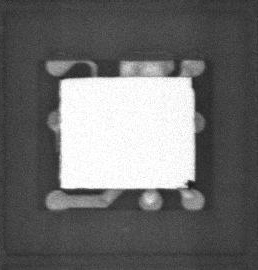DIE_BROKEN: (57, 75, 92, 80), (184, 178, 195, 190), (189, 74, 197, 89)
